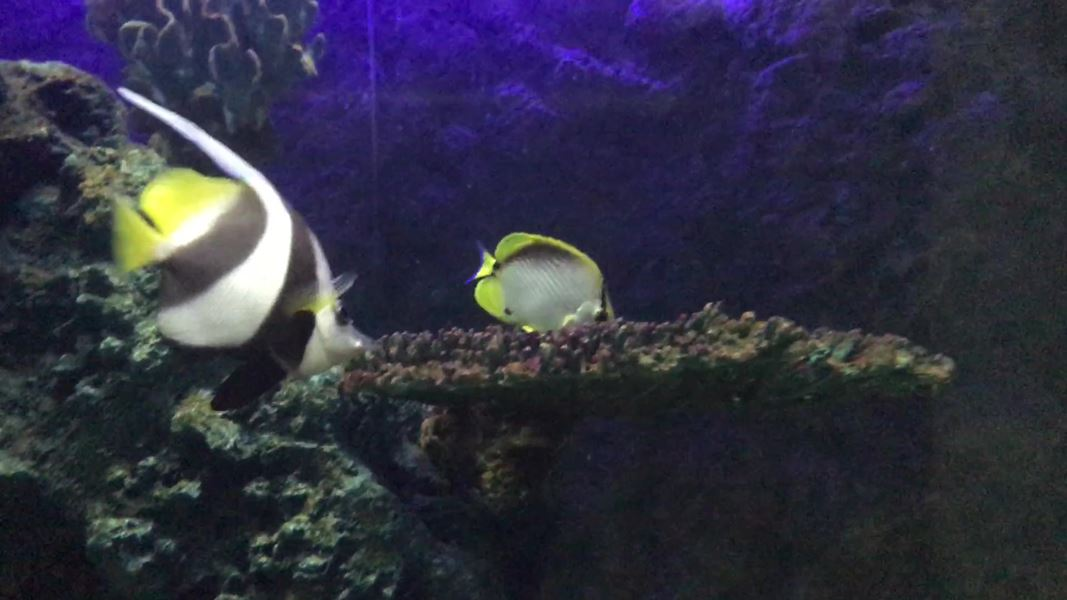Black-backed butterflyfish: (453, 220, 629, 342)
